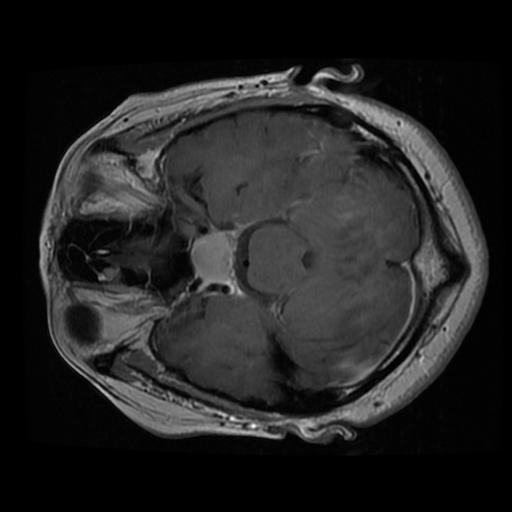pituitary tumour: (189, 231, 234, 285)
